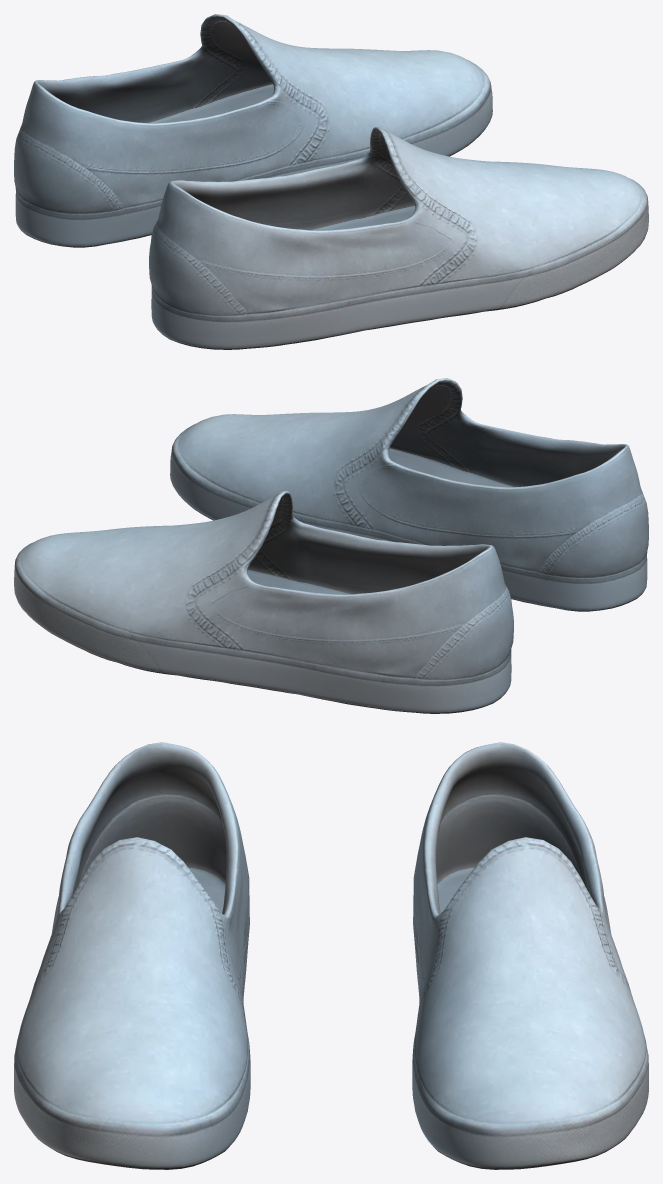
Rendered from skate-shoe.glb.
3 views of the same model, one above another, from view 1: azimuth 30°, elevation 25°; view 2: azimuth 150°, elevation 25°; view 3: azimuth 270°, elevation 25° (orthographic). The views are drawn at different scales.
Visible parts, largest first — view 1: Boot_Material #52_0; view 2: Boot_Material #52_0; view 3: Boot_Material #52_0.
Part boxes in pixels (x1,y1,x2,y2): Boot_Material #52_0: (14,14,648,349); Boot_Material #52_0: (14,378,648,713); Boot_Material #52_0: (14,742,648,1169).
Size of the model in its own units: 1.14 by 0.3766 by 1.09.
1 material, 1 textured.
